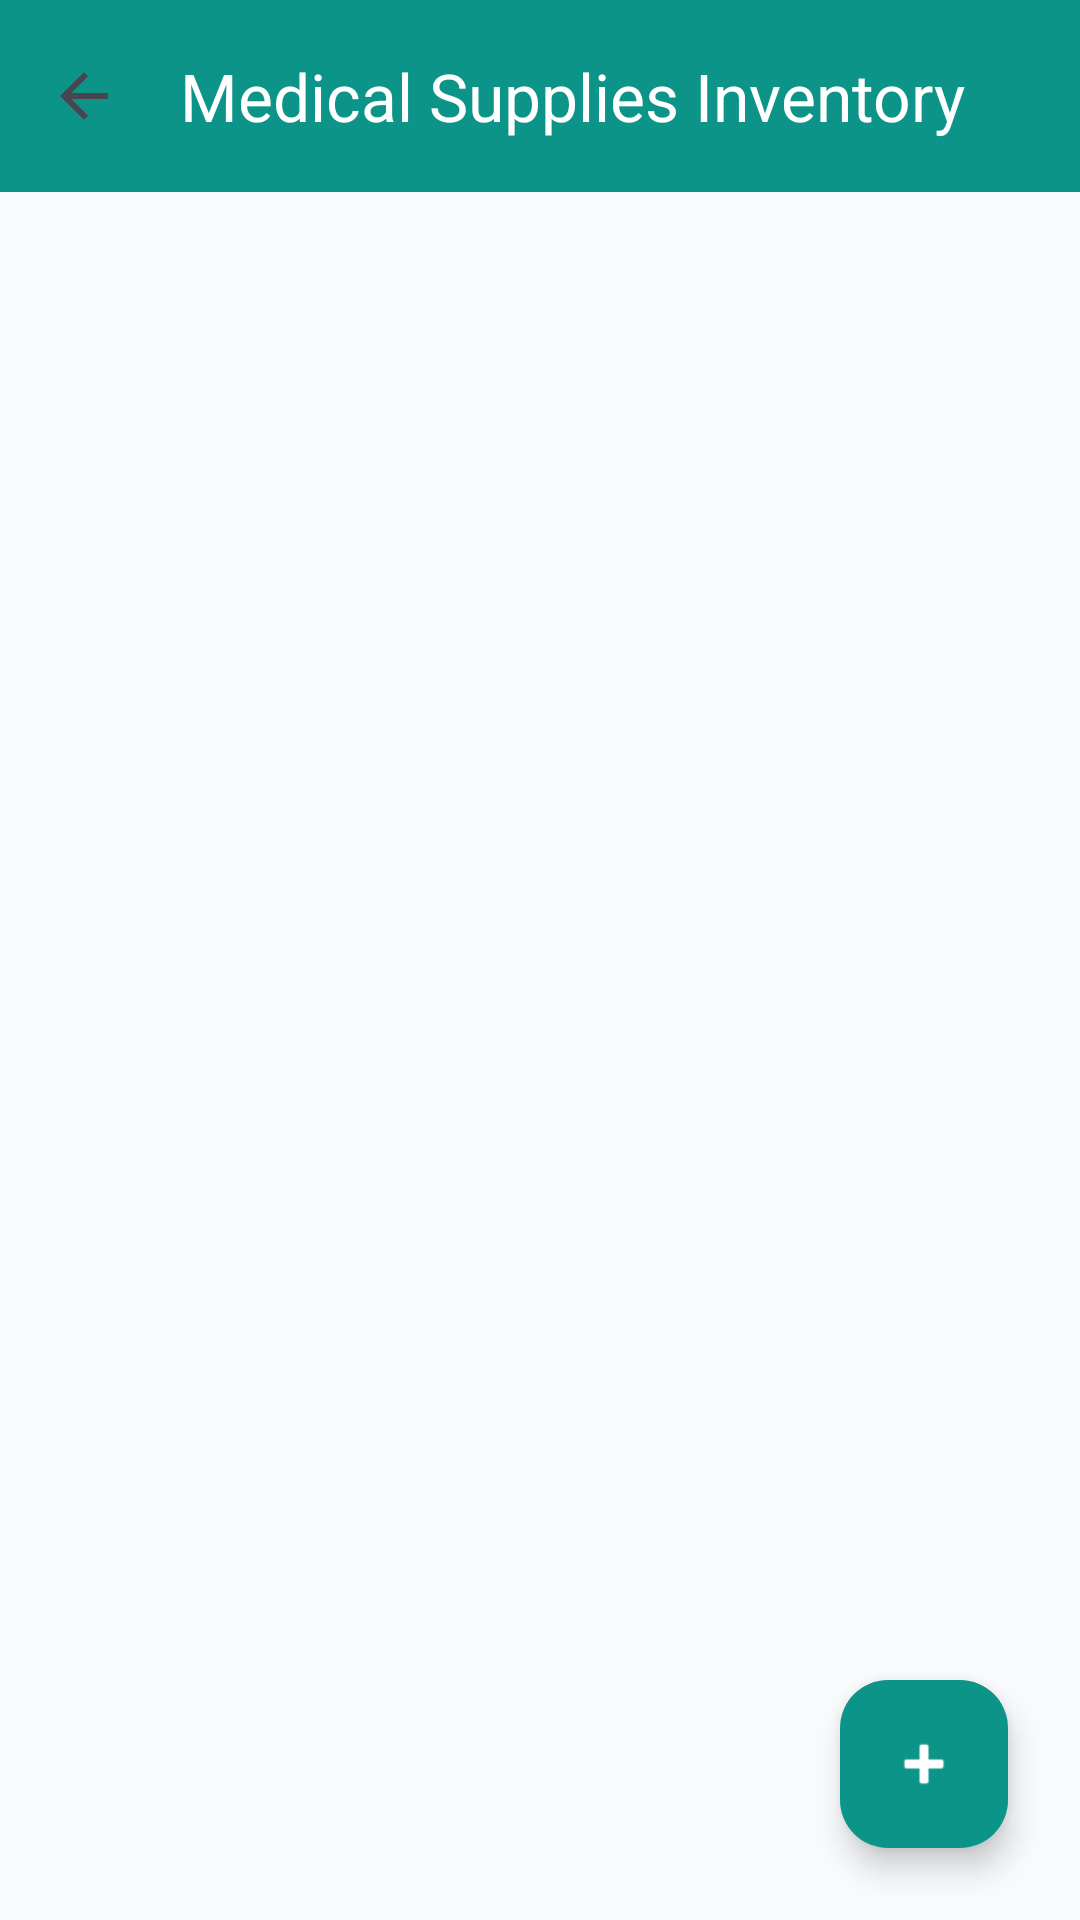

Screen size 1080 x 1920. Icon name, then its center in pixels as (x,y):
Add Medical Supply: (924,1764)
